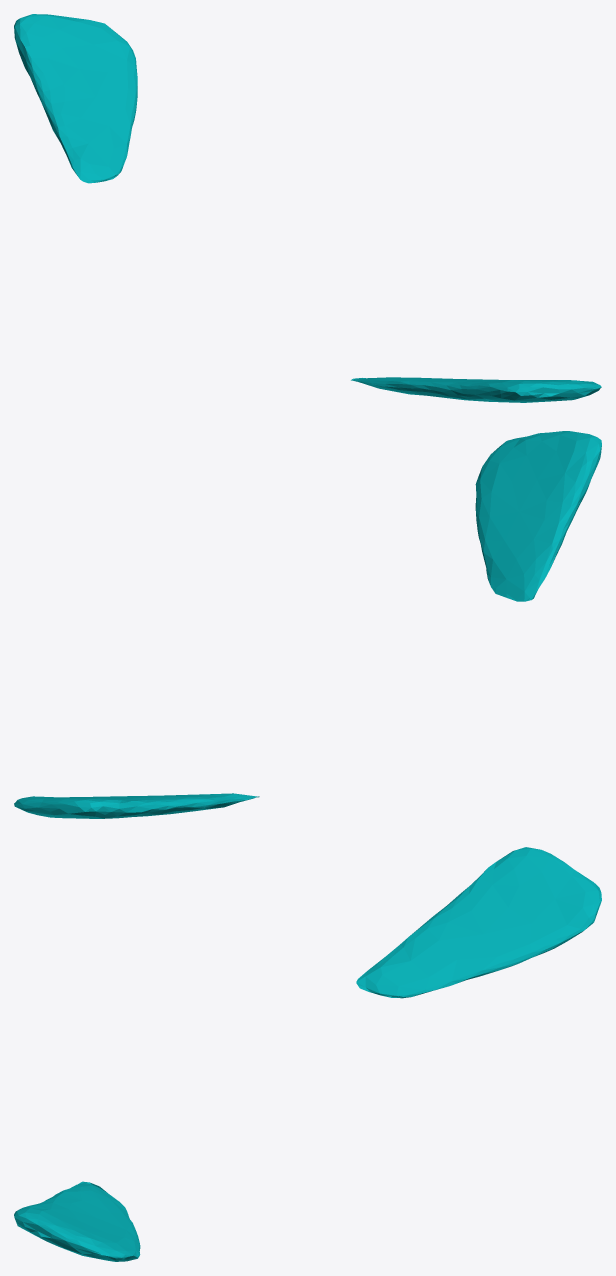
3 renders of one model, top to bottom at view 1: azimuth 30°, elevation 25°; view 2: azimuth 150°, elevation 25°; view 3: azimuth 330°, elevation 25°, orthographic.
Parts seen in each view (by area): view 1: 312782558.obj; view 2: 312782558.obj; view 3: 312782558.obj.
Boxes of the visible parts, x1,y1,x2,y2 form: 312782558.obj: (14, 14, 601, 402); 312782558.obj: (14, 431, 601, 818); 312782558.obj: (14, 847, 601, 1261).
Size of the model in its own units: 860 by 417 by 5217.
